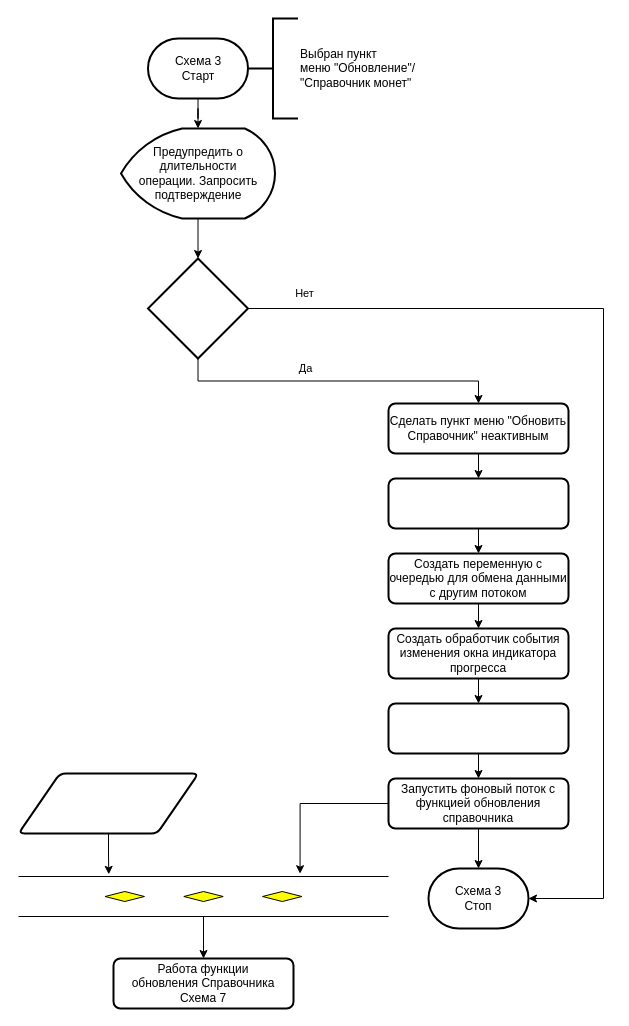
Some shapes in this 629 by 1026 pixel diagram are drawn without their labels. The shapes that lost their labels are listed below. From the top down, each one's centre as x and y in pixels, then its label:
(x=197, y=308): Начать обновление?
(x=478, y=503): Создать окно индикатора прогресса. Установить текстовую метку и прогрессбар
(x=478, y=728): Создать обработчик события закрытия окна индикатора прогресса
(x=108, y=803): Флаг останова потока
